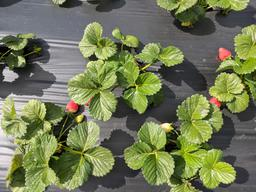green strawberry: (158, 122, 172, 133), (76, 114, 84, 122)
red strawberry: (66, 97, 79, 112), (218, 47, 231, 59)
